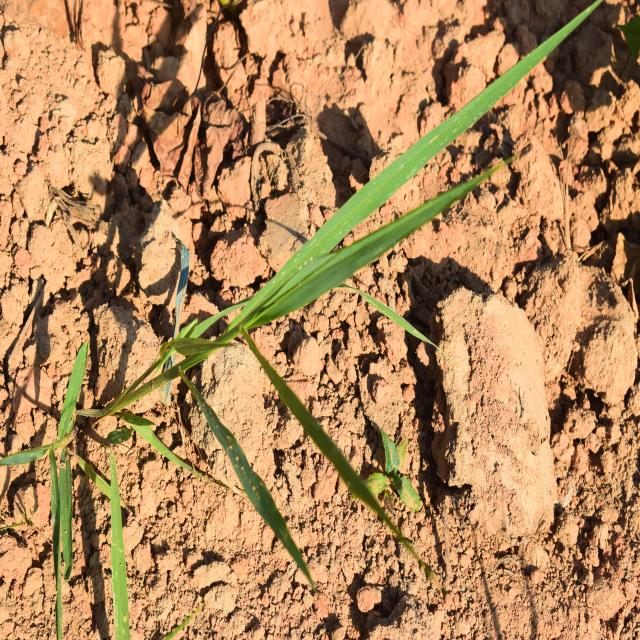green_foxtail: (119, 87, 519, 537)
